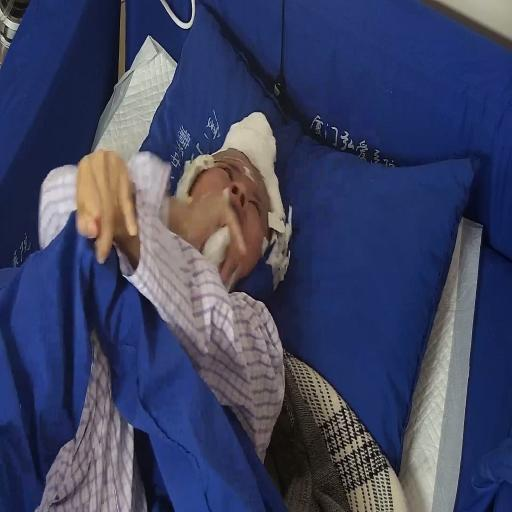Seizure: (191, 126, 282, 279)
